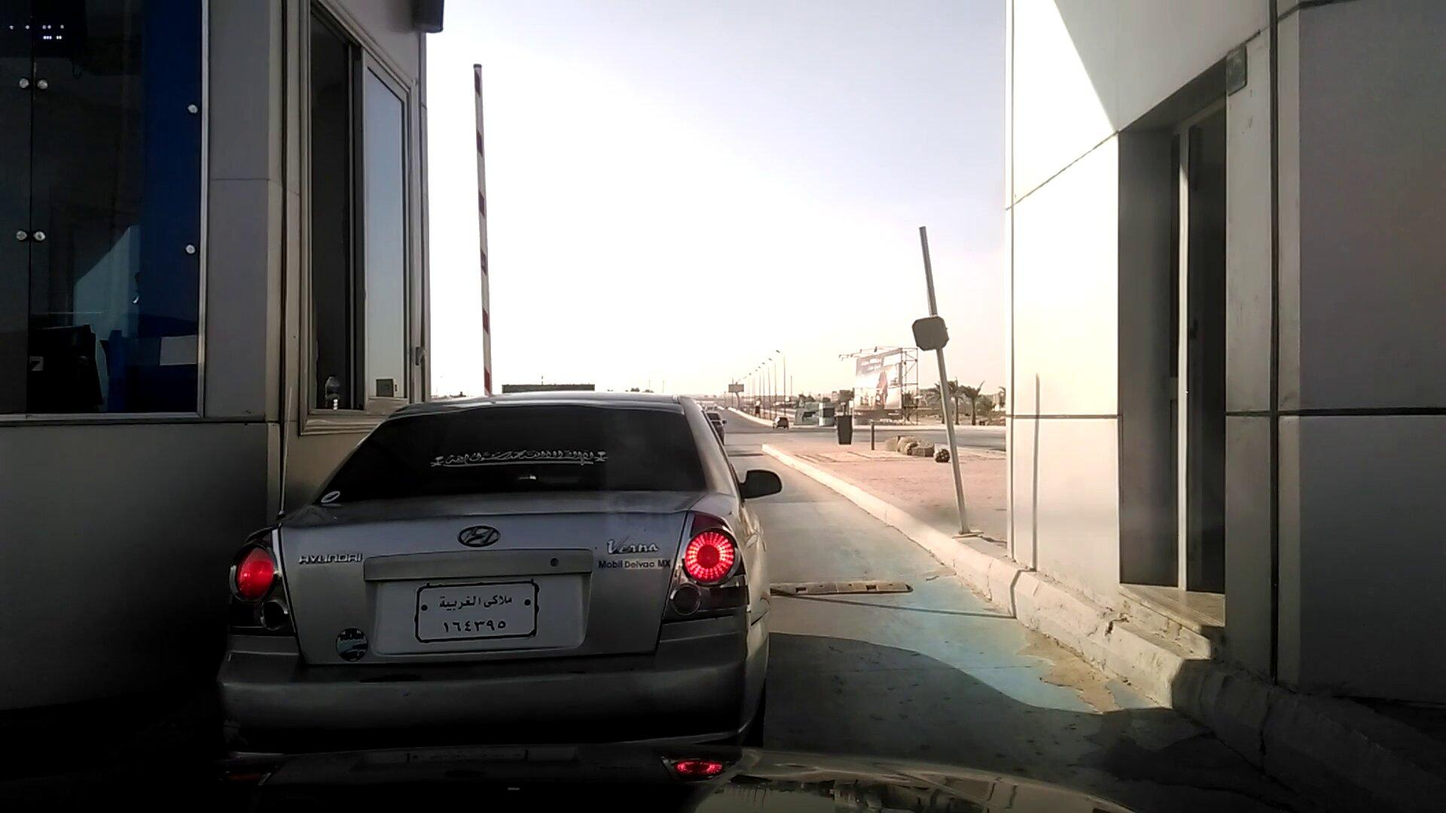Bump: (779, 568, 930, 593)
